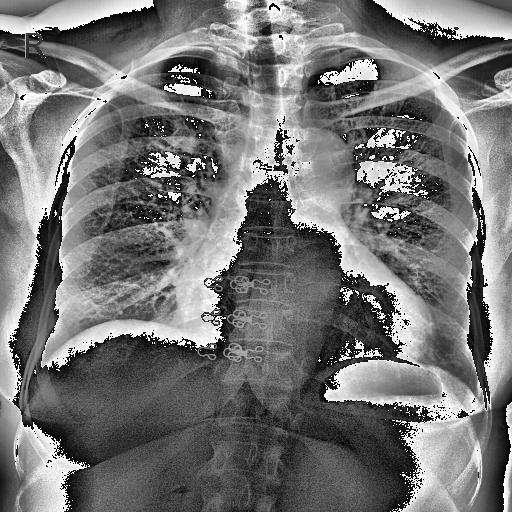0- Aortic enlargement: (273, 124, 355, 226), (272, 128, 358, 219), (281, 126, 355, 220)
3- Cardiomegaly: (176, 268, 438, 374), (178, 264, 434, 366), (174, 262, 432, 362)
